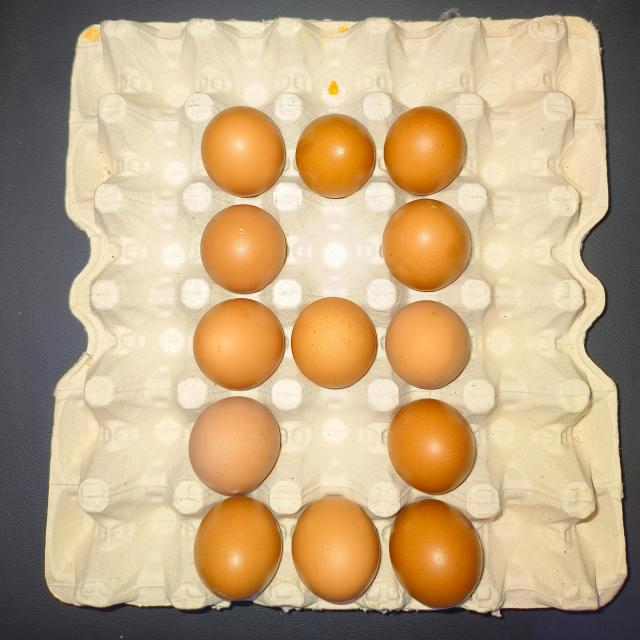Eggs: (184, 393, 288, 499), (295, 495, 387, 614), (378, 393, 478, 494), (396, 499, 486, 609), (194, 506, 284, 614), (385, 195, 473, 298), (201, 204, 291, 304), (291, 292, 384, 381), (198, 104, 282, 199), (190, 308, 288, 385), (389, 300, 471, 392), (391, 97, 465, 195), (301, 105, 375, 196)
